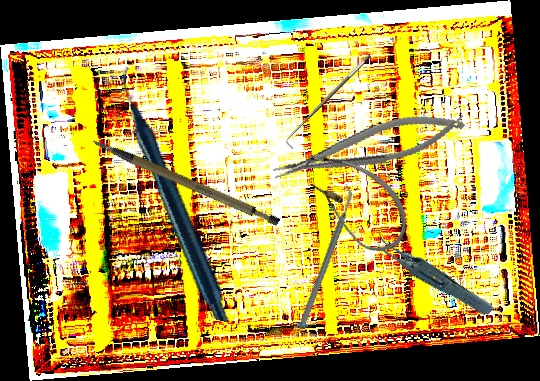Cannula: (284, 138, 424, 264)
Chopper: (255, 183, 397, 326)
Handpiece: (68, 66, 284, 323)
Hook Surgical: (280, 52, 379, 151)
Needle Holder: (268, 104, 469, 188)
Scalpel Handle: (92, 110, 282, 250)
Tissue Forceps: (370, 209, 496, 337)
